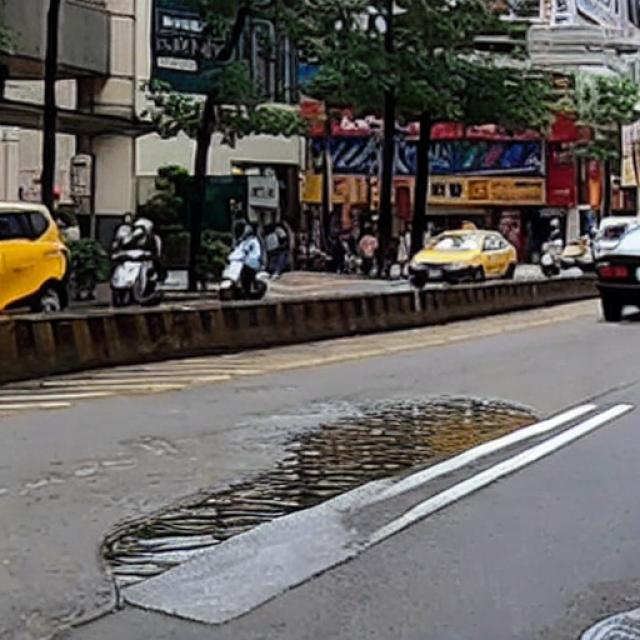puddle: (107, 397, 539, 589)
